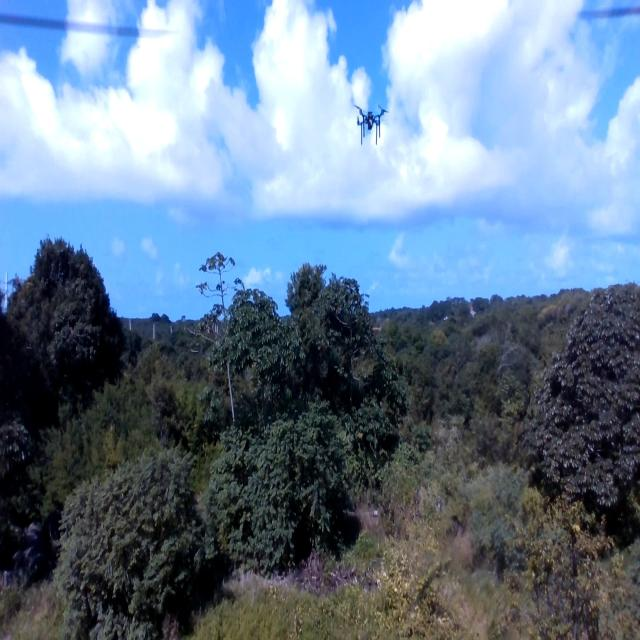-uav-: (347, 87, 398, 166)
